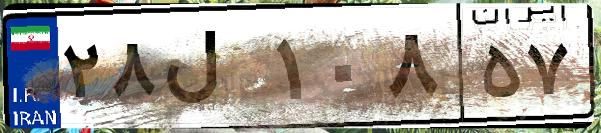0: (330, 28, 385, 110)
1: (270, 28, 330, 110)
2: (57, 26, 110, 100)
5: (475, 38, 525, 113)
7: (525, 38, 570, 115)
8: (385, 28, 445, 110), (110, 28, 158, 98)
ل: (158, 20, 270, 120)
